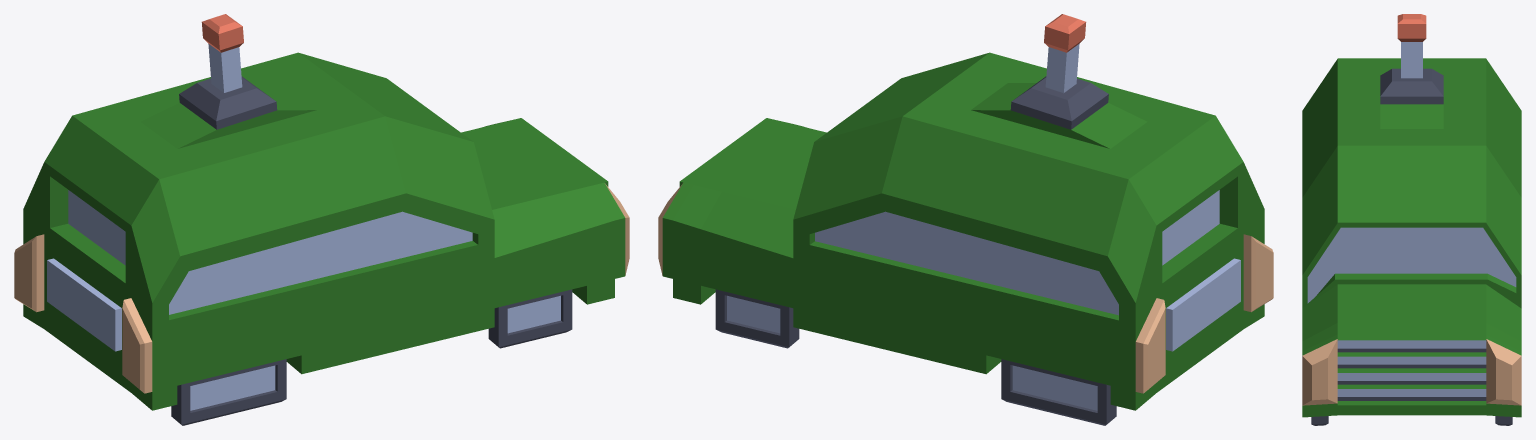
Rendered from car.fbx.
The picture shows the model from 3 angles, left to right: view 1: azimuth 30°, elevation 25°; view 2: azimuth 150°, elevation 25°; view 3: azimuth 270°, elevation 25°; orthographic projection. The views are drawn at different scales.
Parts seen in each view (by area): view 1: Car; view 2: Car; view 3: Car.
Part boxes in pixels (x1,y1,x2,y2): Car: (14,14,629,425); Car: (658,14,1273,425); Car: (1302,14,1521,425).
Bounding box in the file's own units: 1201 × 792 × 543.
